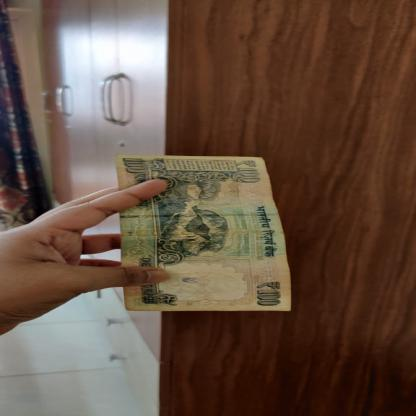Old100Back: (114, 153, 293, 312)
